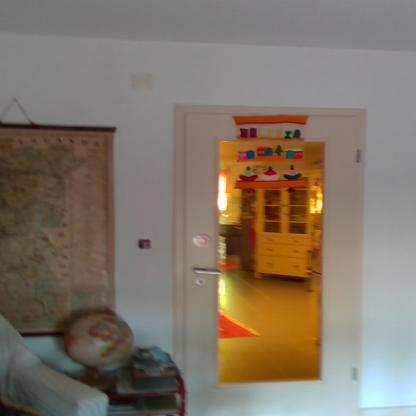door: (186, 114, 360, 416)
hinged: (350, 365, 359, 383), (355, 148, 364, 164)
lever: (191, 266, 226, 276)
